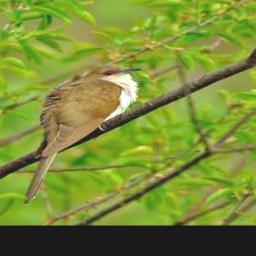Cuckoo: (20, 64, 143, 205)
